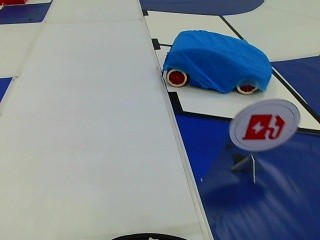battery: (234, 102, 290, 145)
car: (152, 28, 272, 95)
